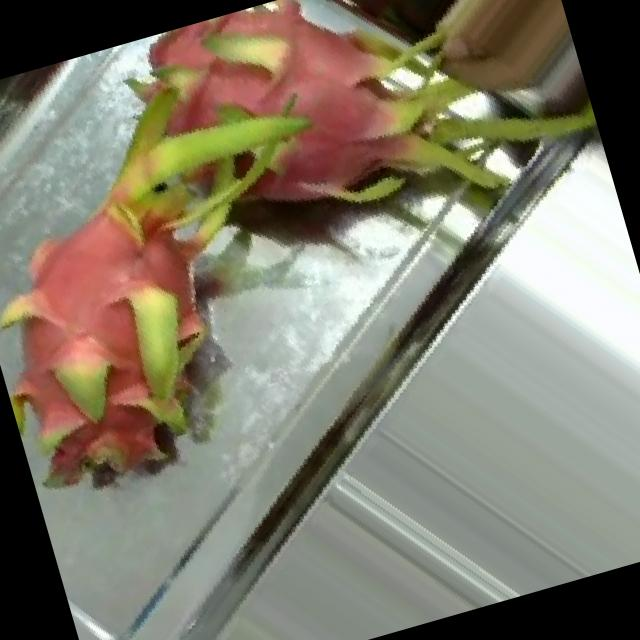Fruit: (295, 0, 495, 89)
